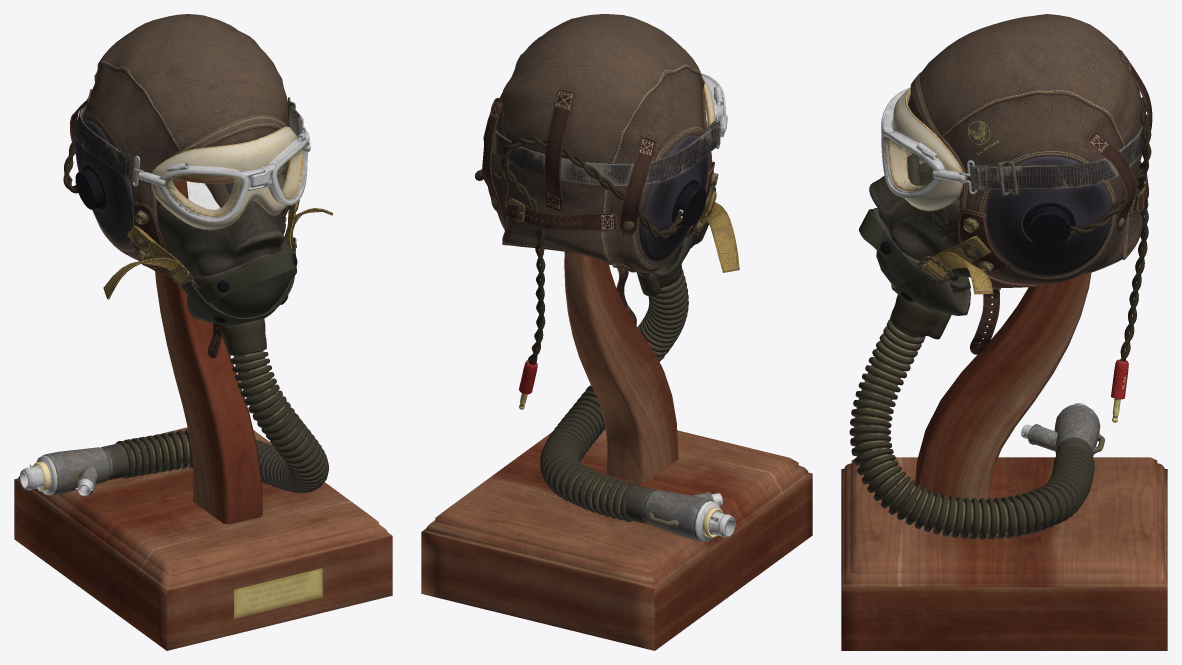
The model's file is flight_helmet.gltf.
The picture shows the model from 3 angles, left to right: view 1: azimuth 30°, elevation 25°; view 2: azimuth 150°, elevation 25°; view 3: azimuth 270°, elevation 25°; orthographic projection. The views are drawn at different scales.
Visible parts, largest first — view 1: RubberWood_low, LeatherParts_low, MetalParts_low, GlassPlastic_low, Hose_low, Lenses_low; view 2: RubberWood_low, LeatherParts_low, Hose_low, MetalParts_low, GlassPlastic_low; view 3: RubberWood_low, LeatherParts_low, Hose_low, GlassPlastic_low, MetalParts_low, Lenses_low.
Boxes of the visible parts, x1,y1,x2,y2 form: RubberWood_low: (14,100,392,650); LeatherParts_low: (70,14,290,358); MetalParts_low: (20,97,322,618); GlassPlastic_low: (75,120,304,244); Hose_low: (115,346,328,493); Lenses_low: (165,144,307,218); RubberWood_low: (421,114,812,650); LeatherParts_low: (482,14,714,325); Hose_low: (540,270,688,521); MetalParts_low: (492,73,735,541); GlassPlastic_low: (487,76,715,261); RubberWood_low: (841,97,1167,650); LeatherParts_low: (908,14,1152,354); Hose_low: (849,317,1094,539); GlassPlastic_low: (887,88,1110,275); MetalParts_low: (880,87,1146,457); Lenses_low: (883,136,933,193).
Bounding box in the file's own units: 0.3666 × 0.716 × 0.3716.
Materials: 6 (6 with a texture image).
